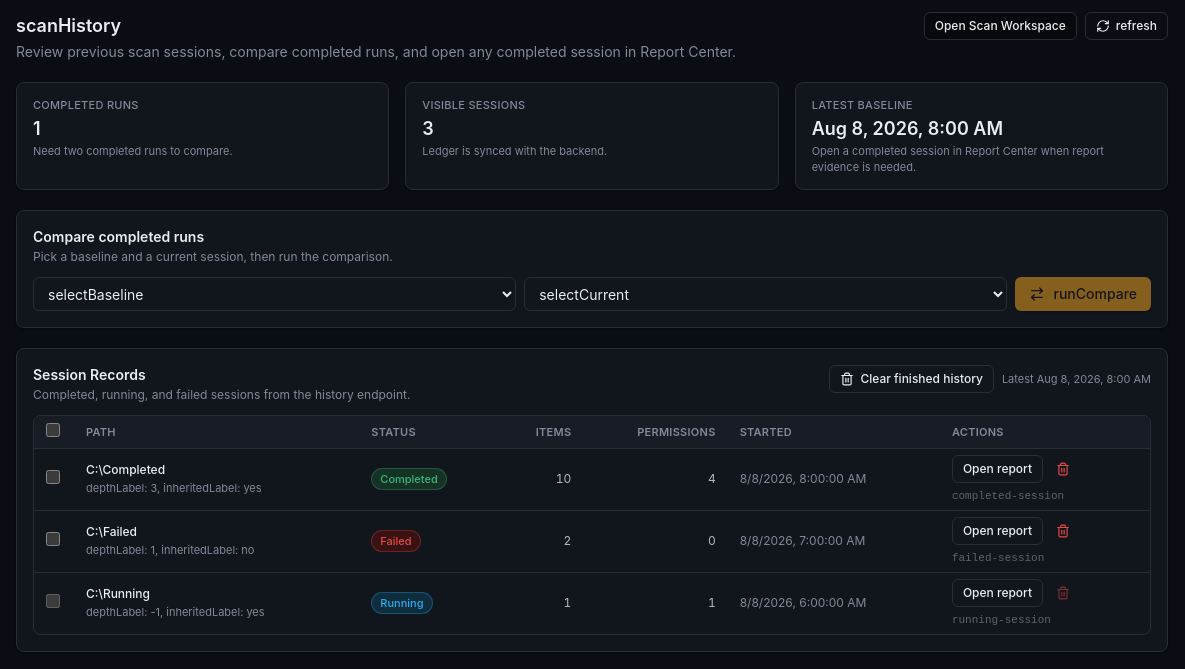
Test case: History page deletion controls › deletes selected terminal sessions and keeps running sessions protected
Expected: the text "C:\\Completed" is shown, left=86, top=462, right=165, bottom=477
Expected: the checkbox named "Select C:\\Running" is disabled, left=46, top=594, right=60, bottom=608
Click the checkbox named "Select C:\\Completed".
click(53, 477)  # box left=46, top=470, right=60, bottom=484
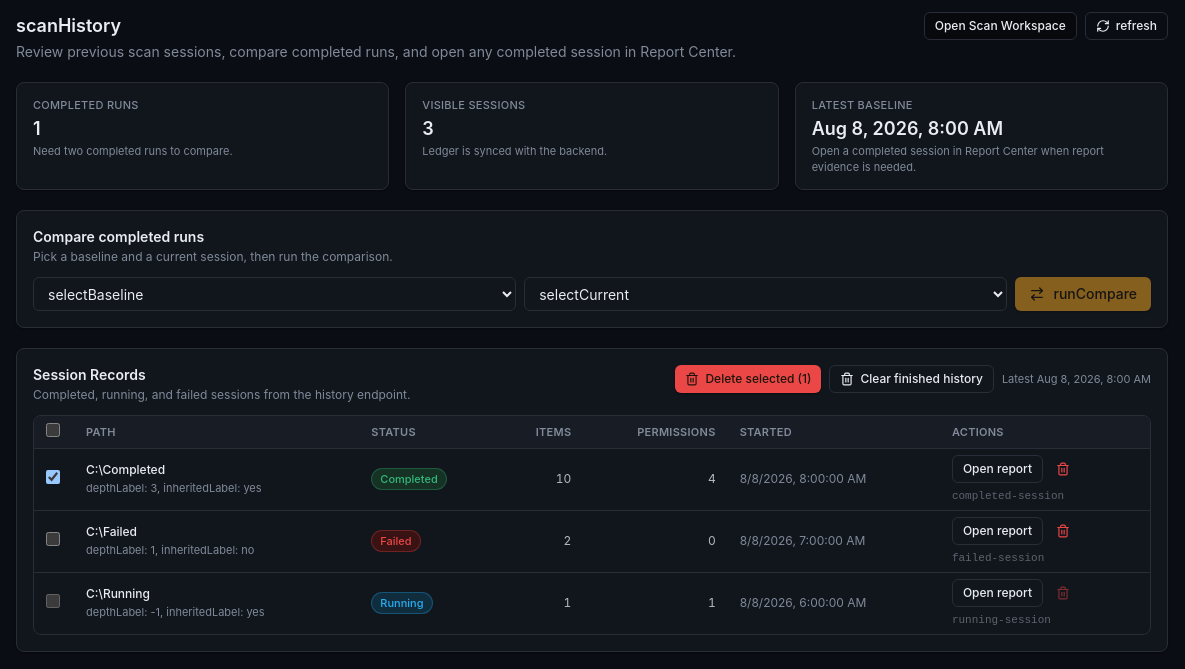
Click the button "Delete selected (1)".
click(748, 379)  # box left=675, top=365, right=821, bottom=393
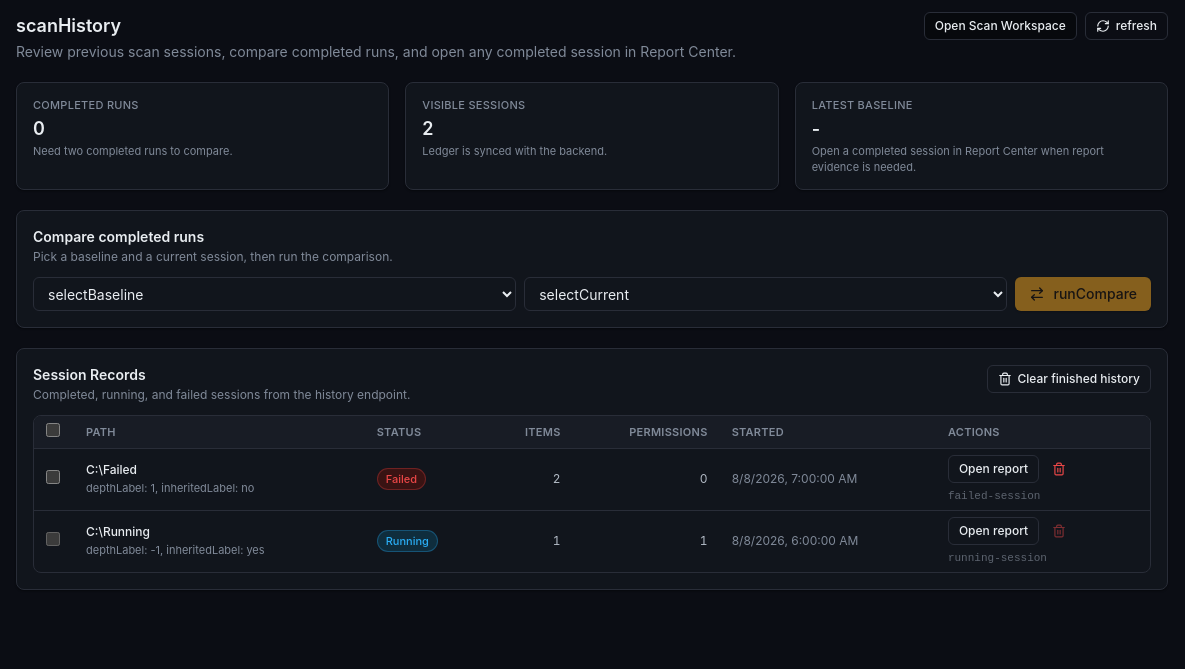
Result: the text "C:\\Completed" is gone
